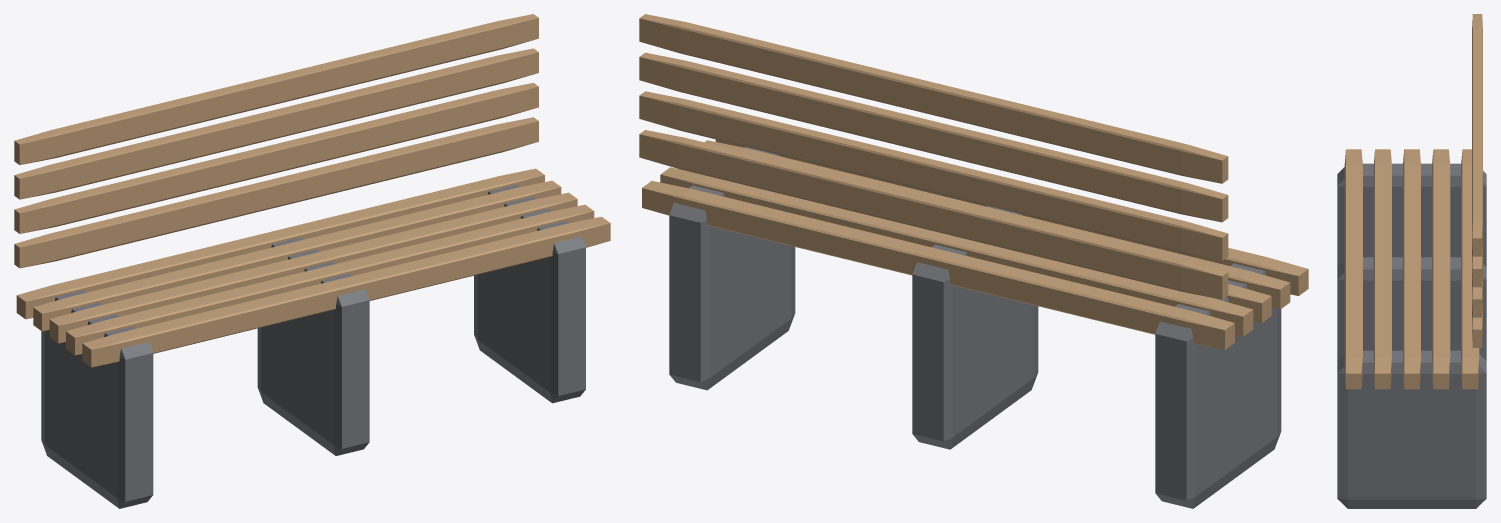
File: b01_memorial_wood_bench.glb
The picture shows the model from 3 angles, left to right: view 1: azimuth 30°, elevation 25°; view 2: azimuth 150°, elevation 25°; view 3: azimuth 270°, elevation 25°; orthographic projection. The views are drawn at different scales.
Parts seen in each view (by area): view 1: b01_memorial_wood_bench; view 2: b01_memorial_wood_bench; view 3: b01_memorial_wood_bench.
Boxes of the visible parts, x1,y1,x2,y2 form: b01_memorial_wood_bench: (14,14,610,508); b01_memorial_wood_bench: (639,14,1308,508); b01_memorial_wood_bench: (1337,14,1486,508).
Size of the model in its own units: 1.95 by 1.15 by 0.548.
